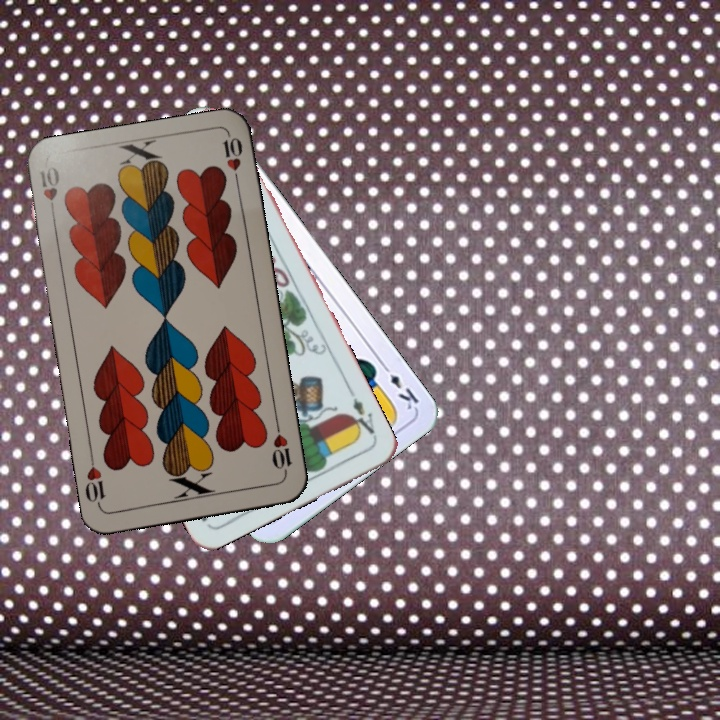EA: (343, 386, 380, 441)
EK: (377, 359, 422, 413)
H10: (35, 163, 62, 222), (268, 419, 294, 478)
